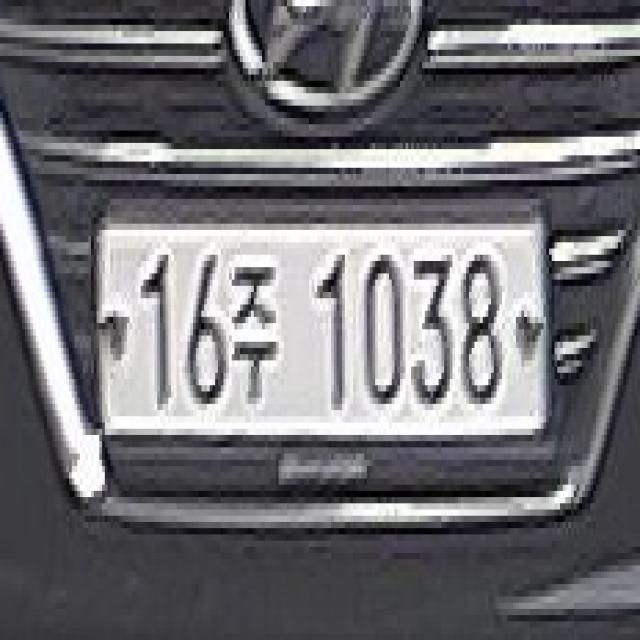0: (356, 242, 408, 422)
1: (135, 236, 182, 429), (309, 248, 356, 428)
3: (408, 248, 455, 416)
6: (182, 236, 229, 423)
8: (458, 242, 505, 422)
ju: (226, 236, 279, 429)
license_plate: (85, 193, 562, 503)
